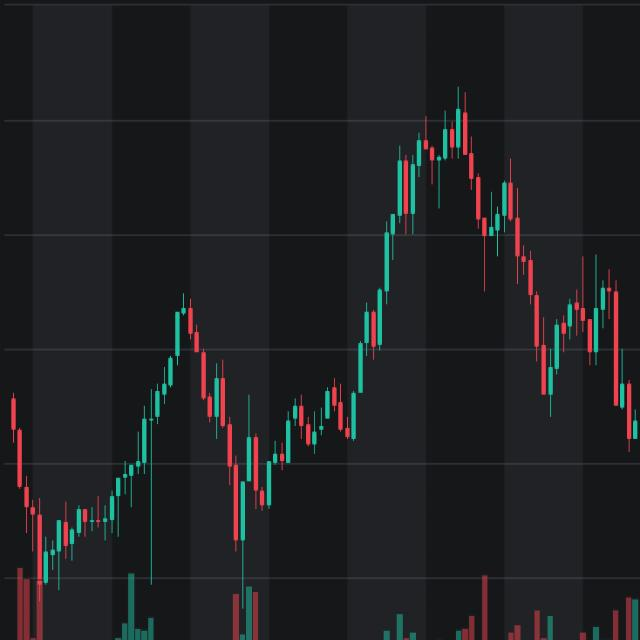Resistance-breakout: (116, 67, 486, 556)
